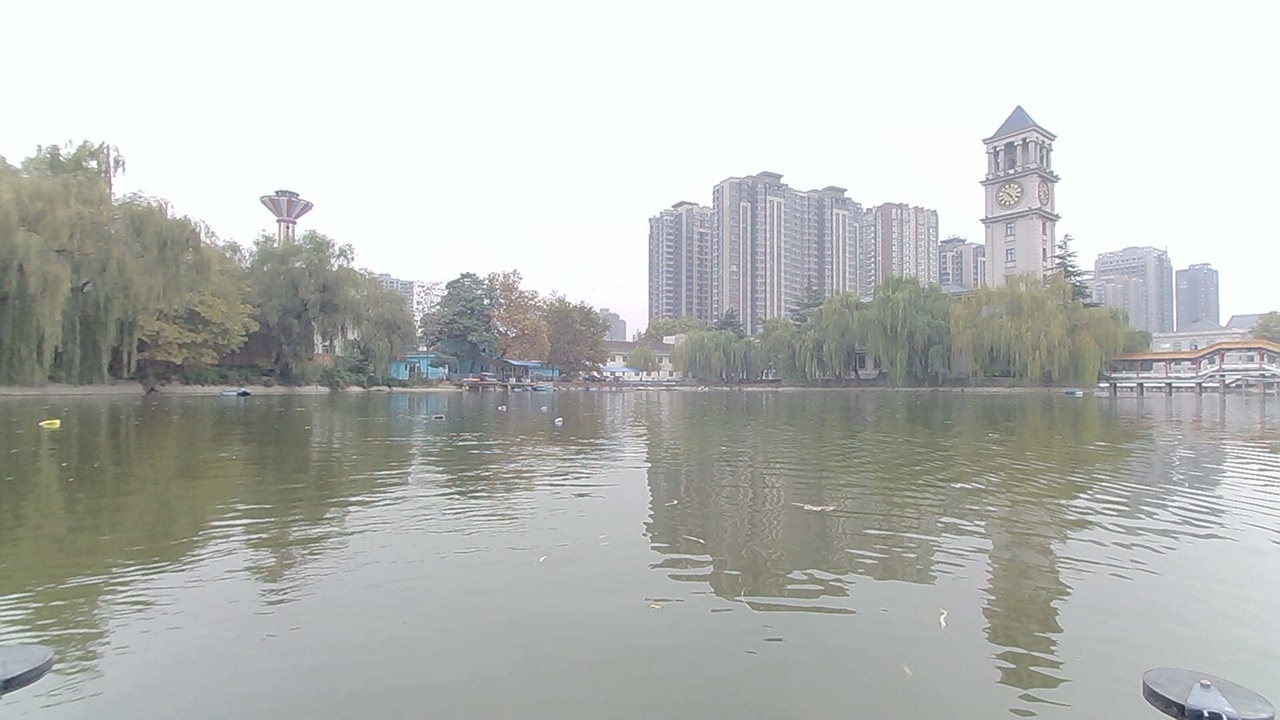bottle: (540, 411, 572, 434), (37, 412, 67, 436), (424, 405, 454, 427), (523, 399, 556, 416), (493, 398, 515, 417)
